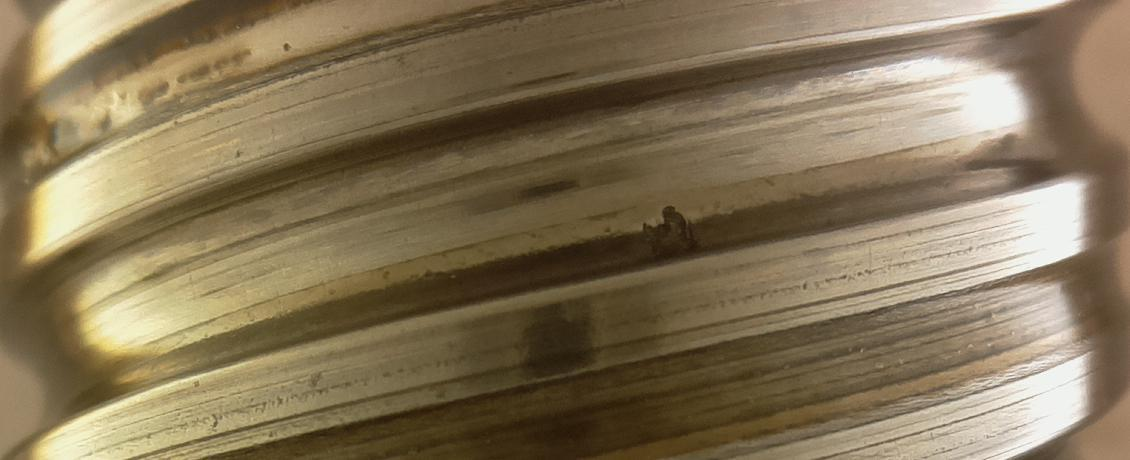pitting: (641, 206, 708, 260)
